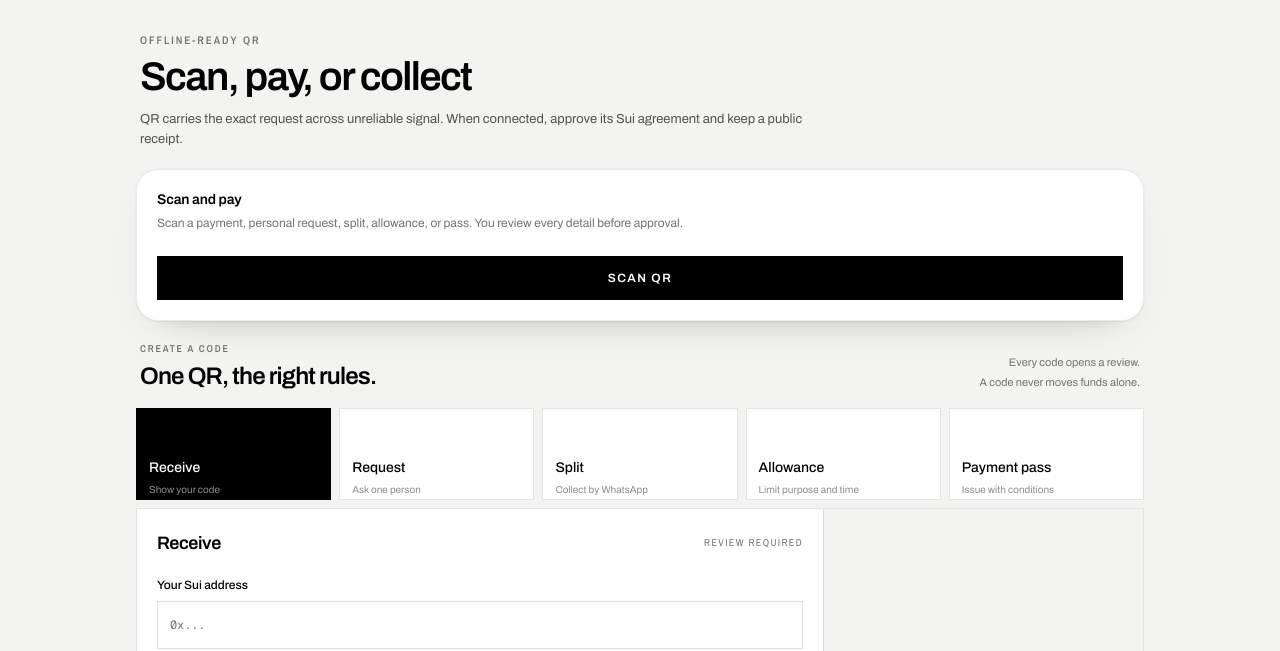
Test: Pay Offline — Scan QR camera entry › routes a decoded remittance quote through the strict import path (Quote carried / Not paid yet)
This screenshot has width=1280, height=651.
Click the button with test id "scan-qr-button" at (640, 278), box [157, 256, 1123, 300]
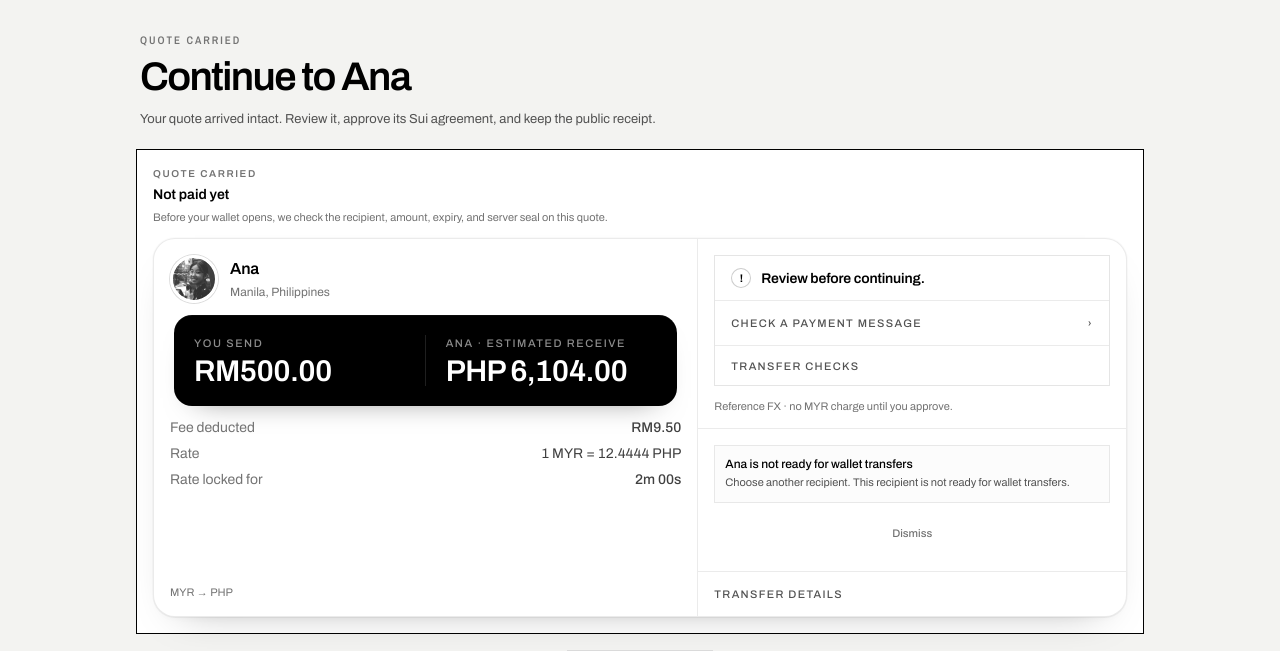
Expected: the element with test id "remittance-handoff-card" is shown, [136, 148, 1144, 634]
Expected: the 1st text "Quote carried" is shown, [140, 33, 241, 47]
Expected: the text "Not paid yet" is shown, [153, 186, 229, 202]
